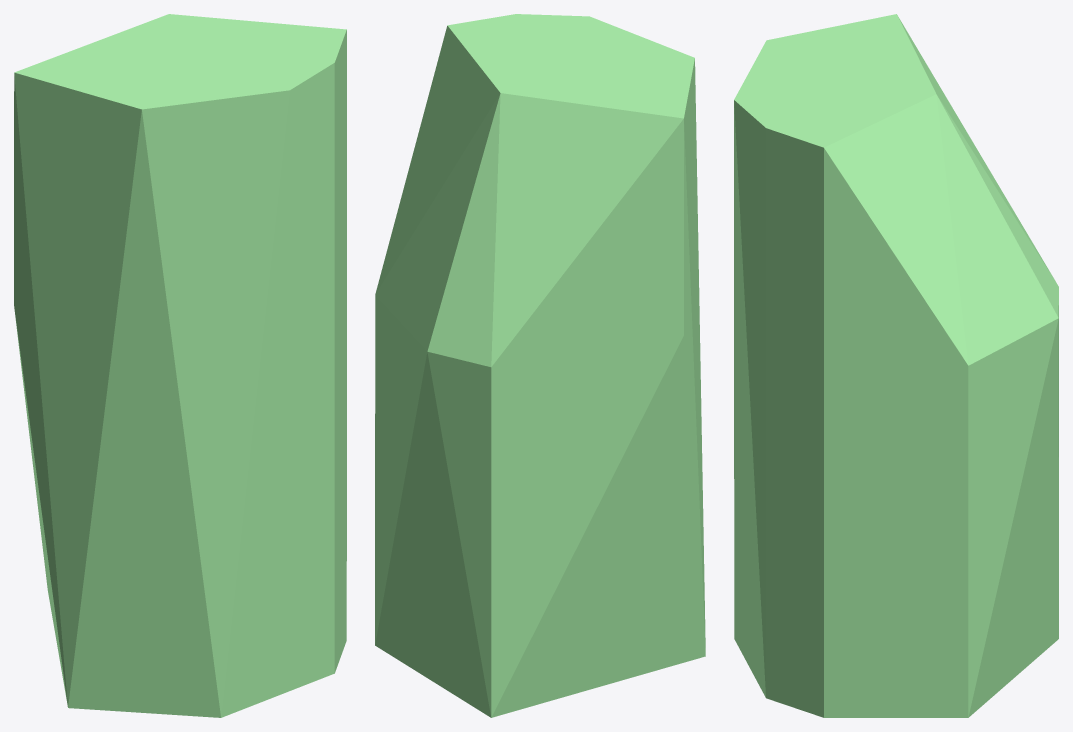
The model's file is dvkr_robot_Lp11_respondable_PSM2_coll_9.dae.
3 renders of one model, left to right at view 1: azimuth 30°, elevation 25°; view 2: azimuth 150°, elevation 25°; view 3: azimuth 270°, elevation 25°, orthographic. The views are drawn at different scales.
Parts seen in each view (by area): view 1: Node_0000023514CDA4D0; view 2: Node_0000023514CDA4D0; view 3: Node_0000023514CDA4D0.
Boxes of the visible parts, <box> form: Node_0000023514CDA4D0: <box>14,14,346,717</box>; Node_0000023514CDA4D0: <box>375,14,705,717</box>; Node_0000023514CDA4D0: <box>734,14,1058,717</box>.
Size of the model in its own units: 0.0171 by 0.034 by 0.0176.
